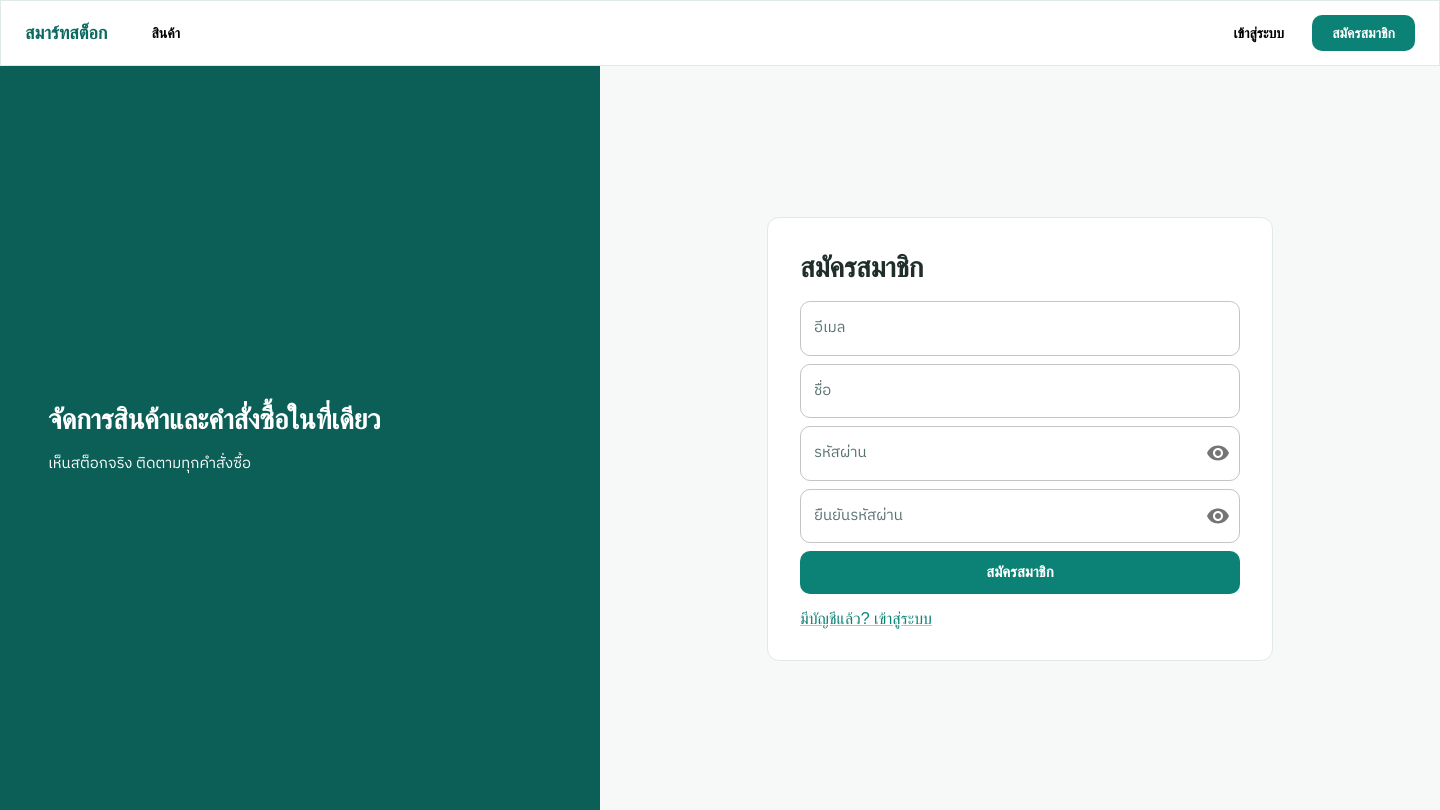
Test case: shows server 422 field errors
Type "new@example.com" into the field labelled "อีเมล".
click(1020, 328); type("new@example.com")  # box [800,301,1240,356]
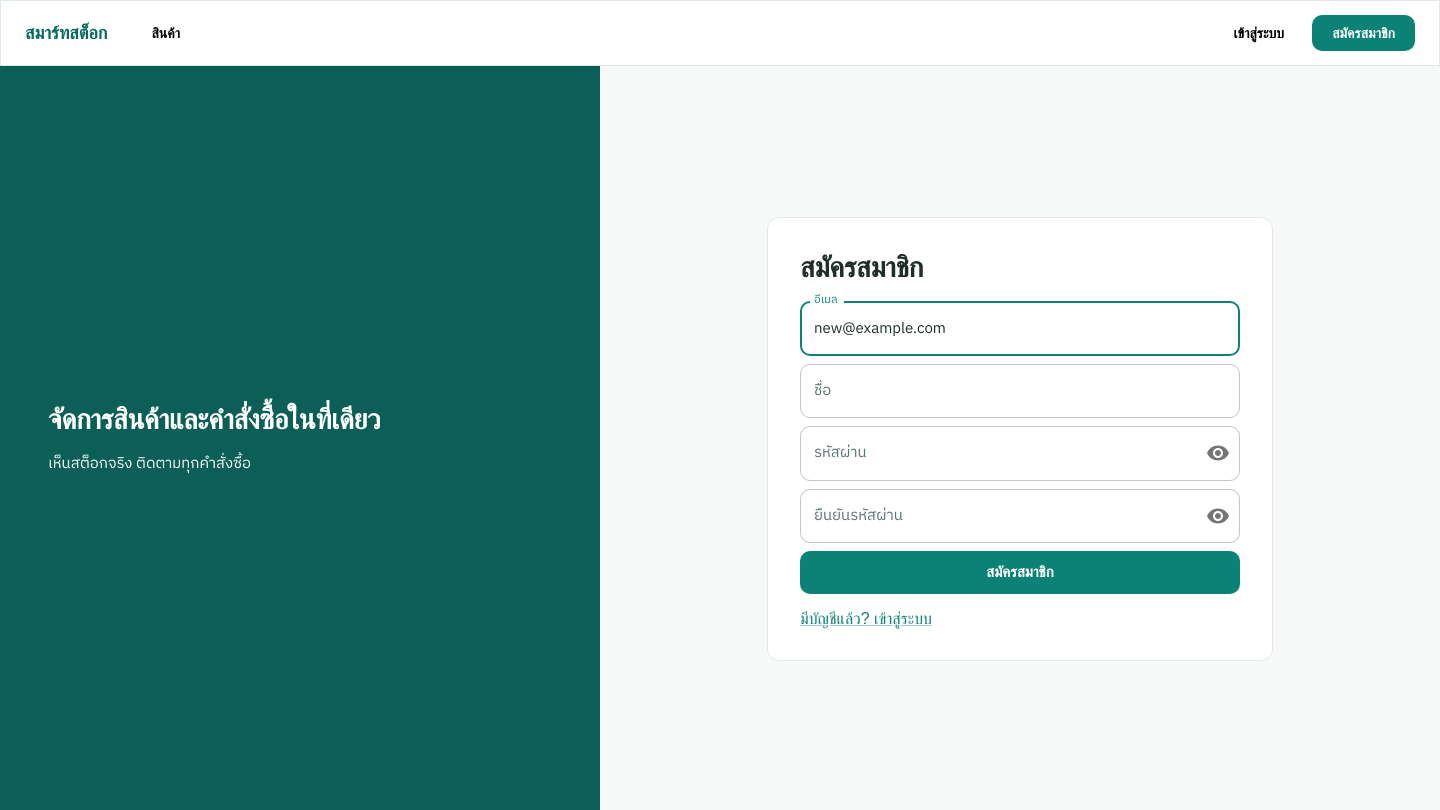
Type "X" into the field labelled "ชื่อ".
click(1020, 391); type("X")  # box [800,364,1240,418]
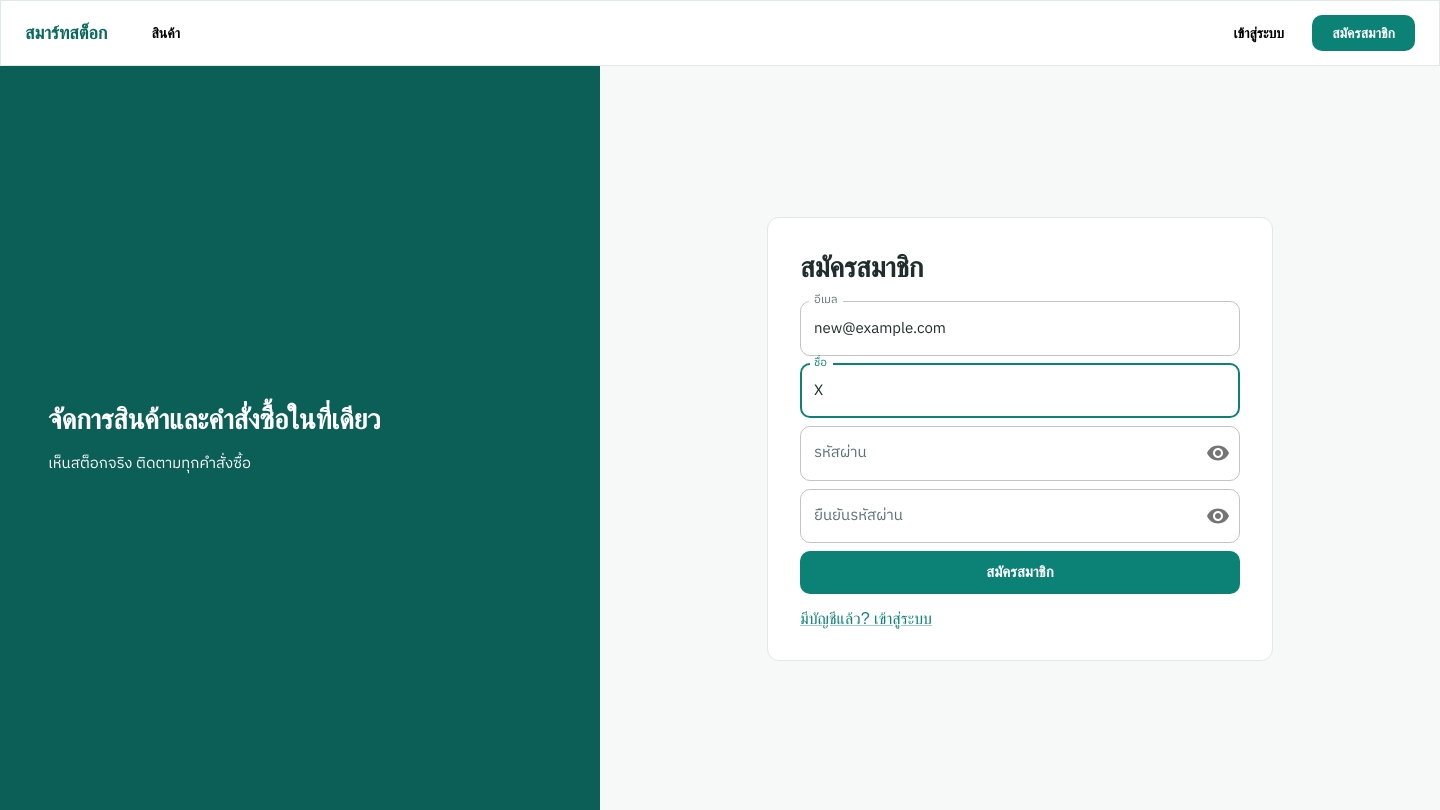
Type "Orange-Bicycle-77" into the password field labelled "รหัสผ่าน".
click(995, 454); type("Orange-Bicycle-77")  # box [800,426,1190,481]
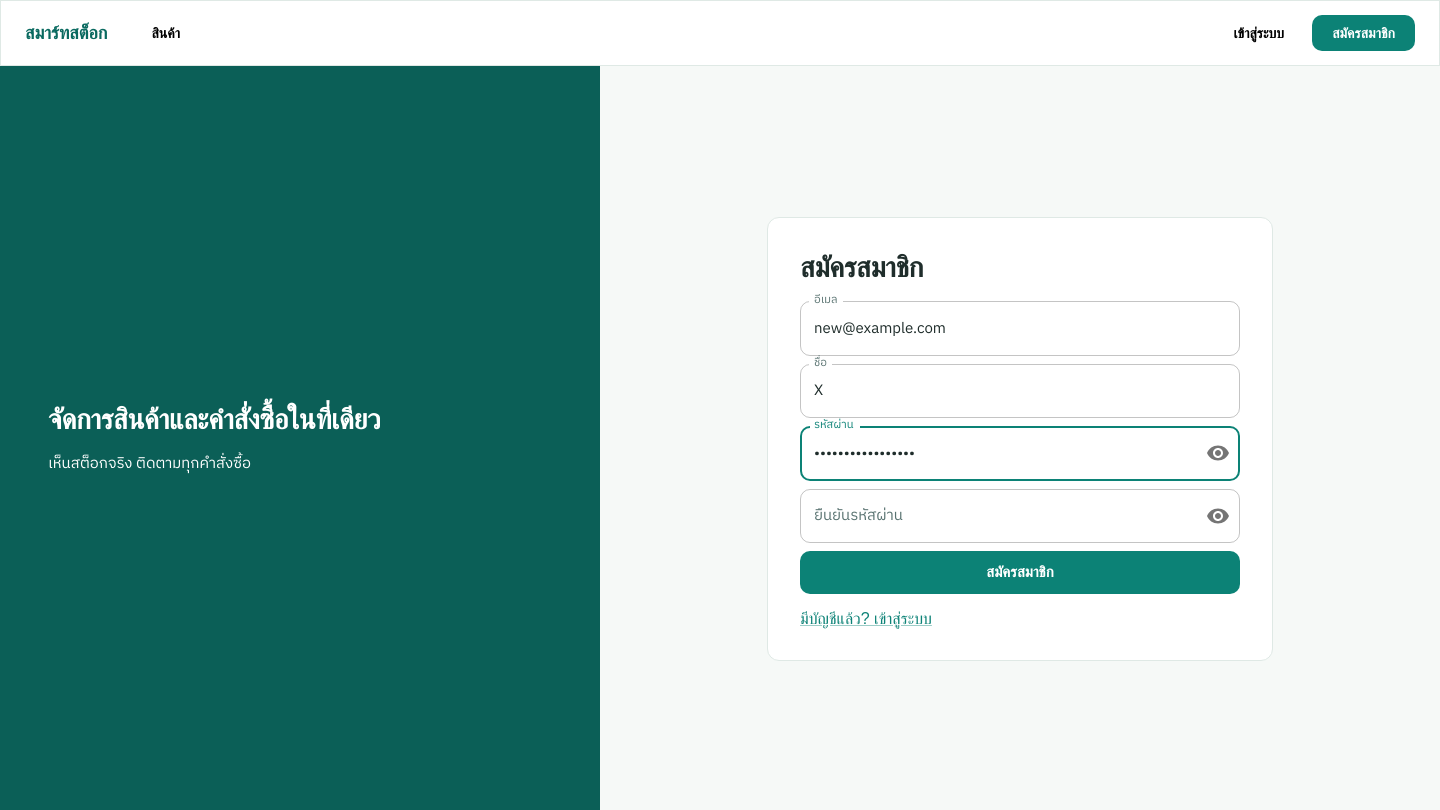
Type "Orange-Bicycle-77" into the password field labelled "ยืนยันรหัสผ่าน".
click(995, 516); type("Orange-Bicycle-77")  # box [800,489,1190,543]
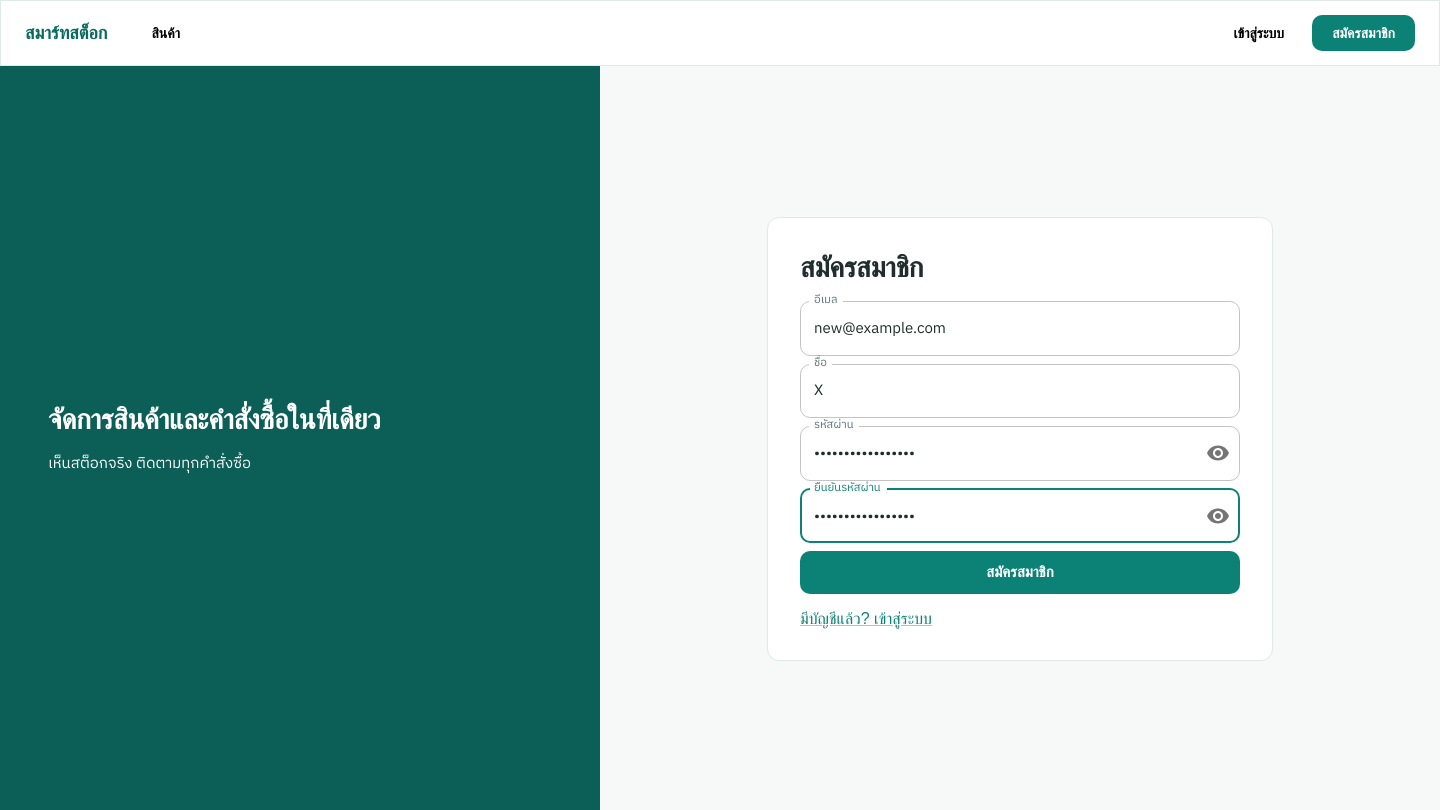
Click the button "สมัครสมาชิก".
click(1020, 572)  # box [800,551,1240,594]
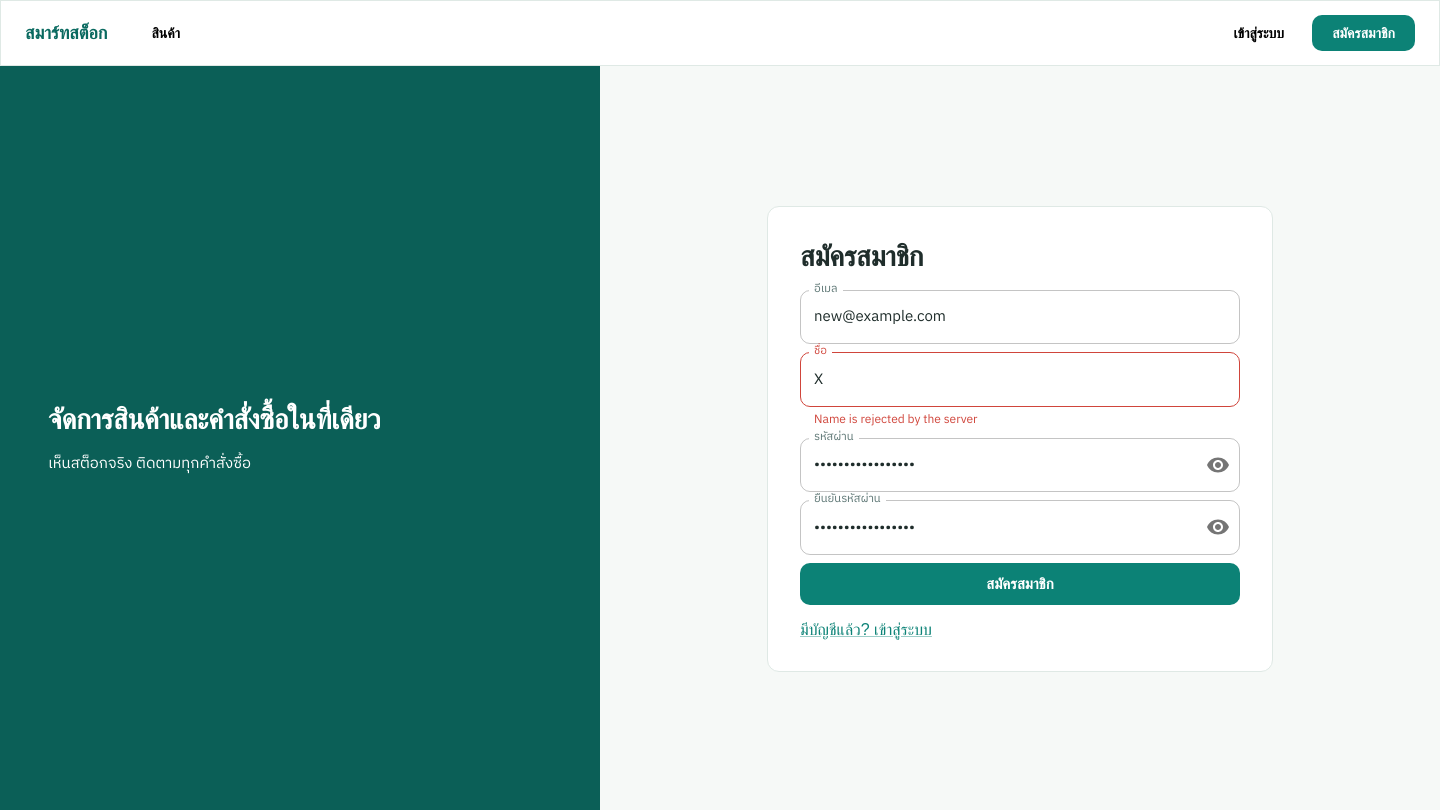
Now the text "Name is rejected by the server" is shown, box [814,410,978,429]
